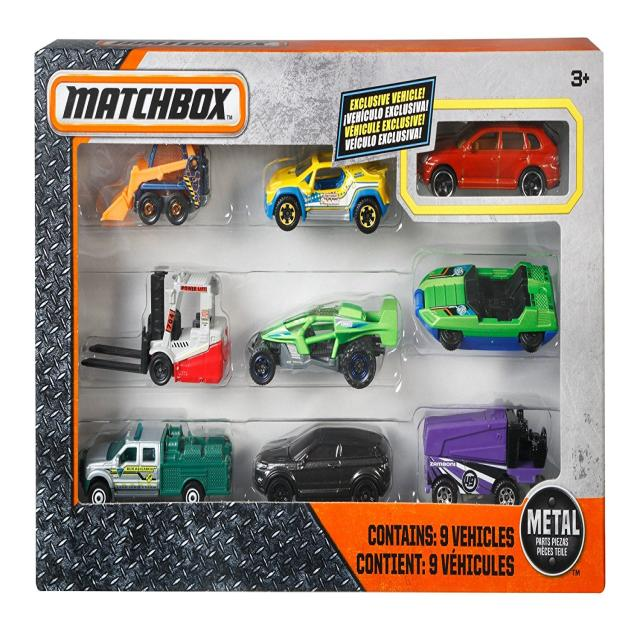Car: (245, 293, 402, 389), (413, 257, 559, 353), (79, 420, 233, 504), (420, 406, 548, 506), (416, 120, 561, 198), (252, 422, 393, 502), (264, 150, 392, 233)
